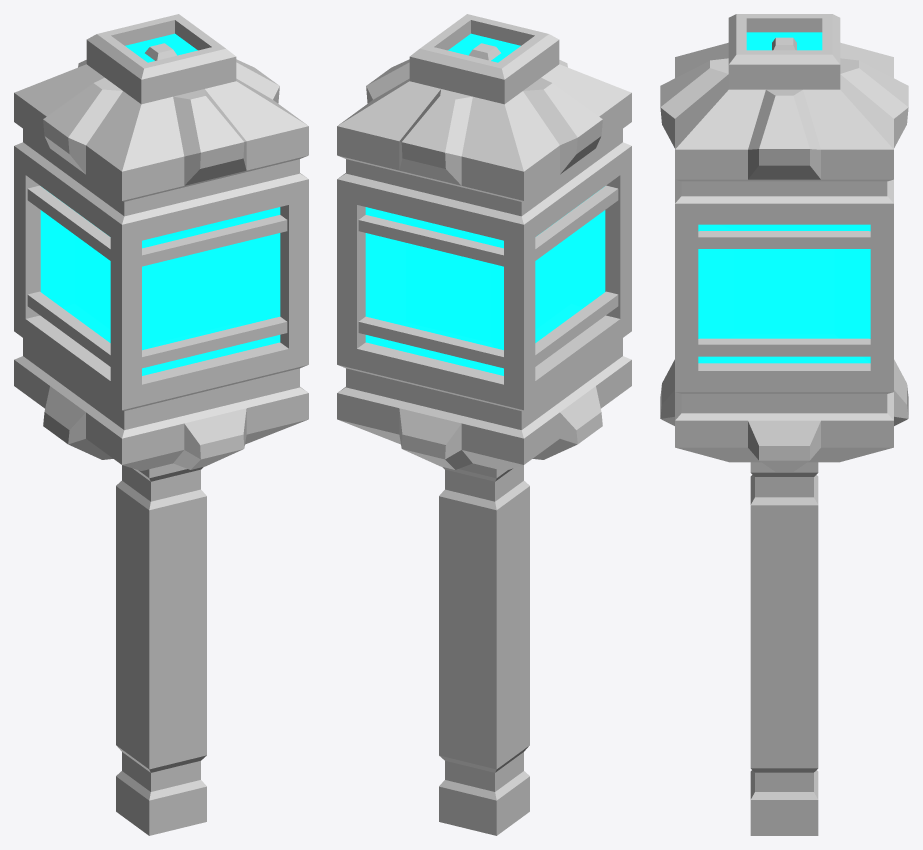
The model's file is Battery Box Toggle.fbx.
3 views of the same model, side by side, from view 1: azimuth 30°, elevation 25°; view 2: azimuth 150°, elevation 25°; view 3: azimuth 270°, elevation 25° (orthographic).
Parts seen in each view (by area): view 1: Power Effector Battery, Pole Component; view 2: Power Effector Battery, Pole Component; view 3: Power Effector Battery, Pole Component.
Part boxes in pixels (x1,y1,x2,y2): Power Effector Battery: (14,14,308,470); Pole Component: (116,463,206,835); Power Effector Battery: (337,14,631,470); Pole Component: (439,463,529,835); Power Effector Battery: (660,14,908,471); Pole Component: (750,462,818,835).
Bounding box in the file's own units: 227 × 793 × 227.
